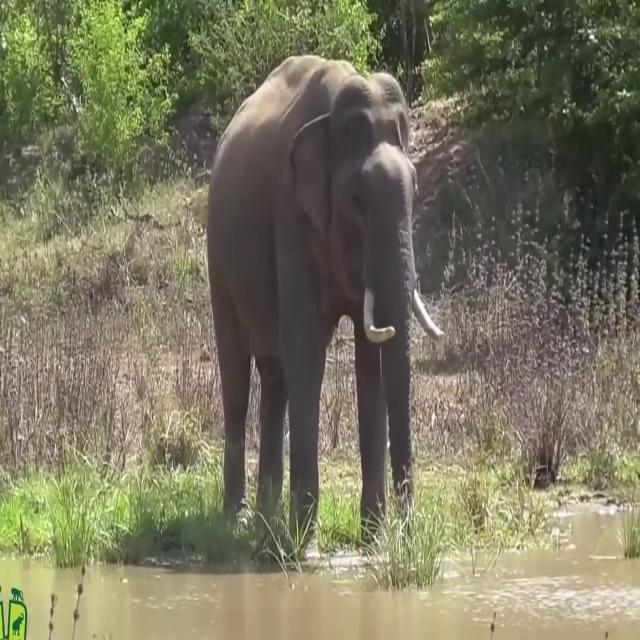Elephant: (206, 52, 444, 554)
